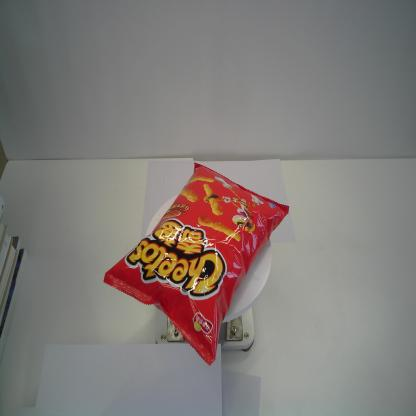Puffed Food: (102, 159, 291, 365)
